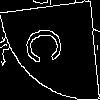C: (25, 25, 72, 65)
